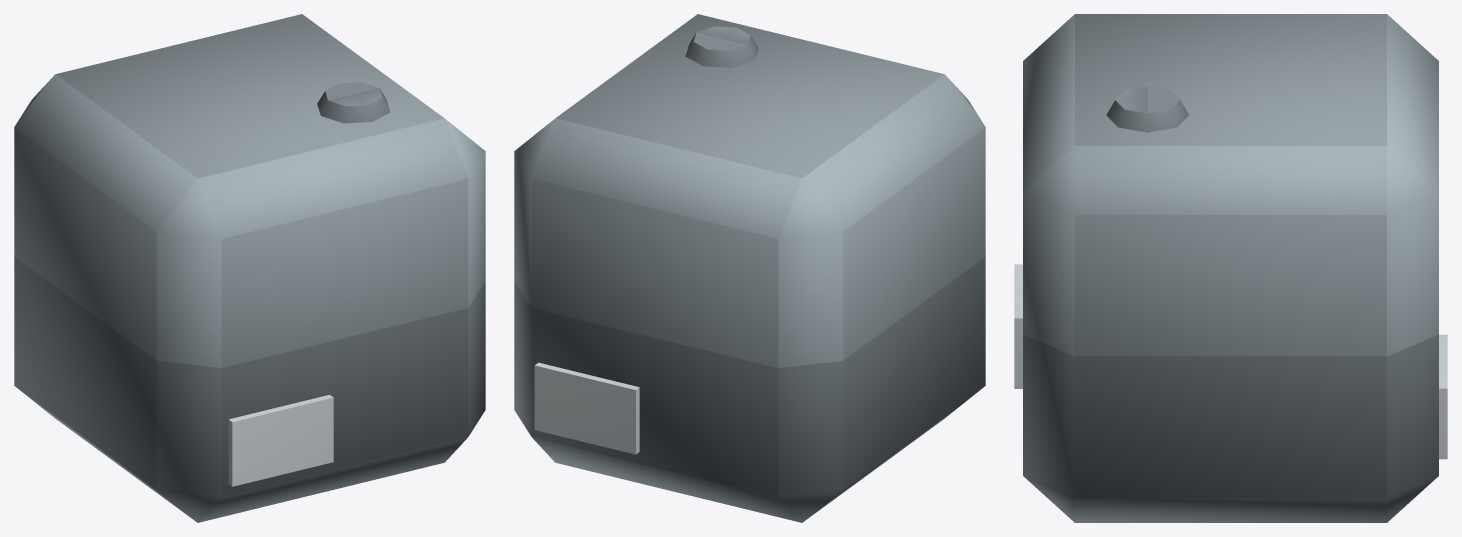
File: kaykit_cargo_b_v01.glb
3 renders of one model, left to right at view 1: azimuth 30°, elevation 25°; view 2: azimuth 150°, elevation 25°; view 3: azimuth 270°, elevation 25°, orthographic. The views are drawn at different scales.
Parts seen in each view (by area): view 1: cargo_B; view 2: cargo_B; view 3: cargo_B.
Part boxes in pixels (x1=…): cargo_B: x1=14, y1=14, x2=485, y2=522; cargo_B: x1=514, y1=14, x2=985, y2=522; cargo_B: x1=1014, y1=14, x2=1447, y2=522.
Bounding box in the file's own units: 0.5 × 0.52 × 0.5205.
Materials: 1 (1 with a texture image).
